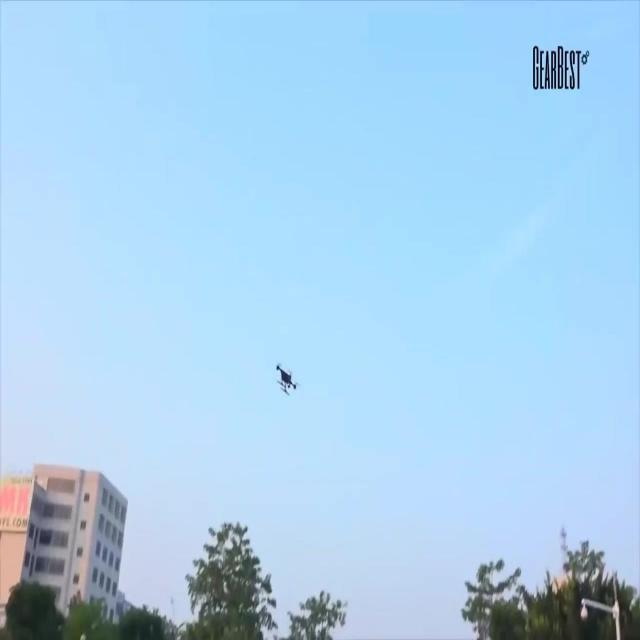UAV: (276, 364, 298, 396)
